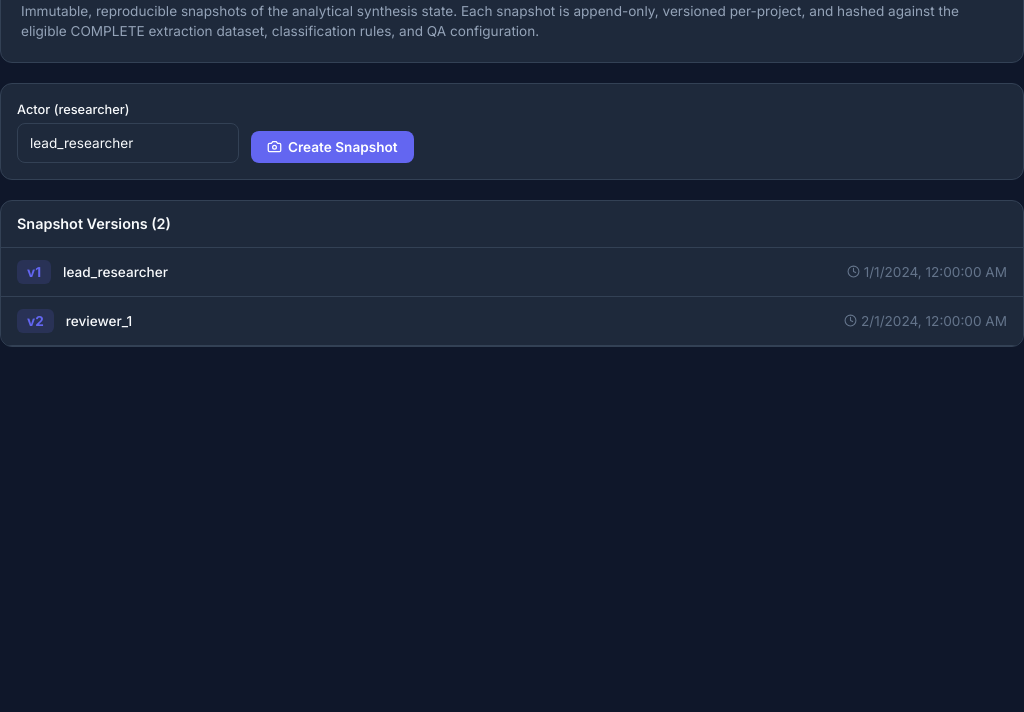
it: SnapshotsWorkspace Component › E7: JSON export produces preview
The image size is (1024, 712).
Click the button with test id "snapshot-row-1".
click(34, 272)  # box top-left (1, 248), bottom-right (1023, 297)
(page scrolled)
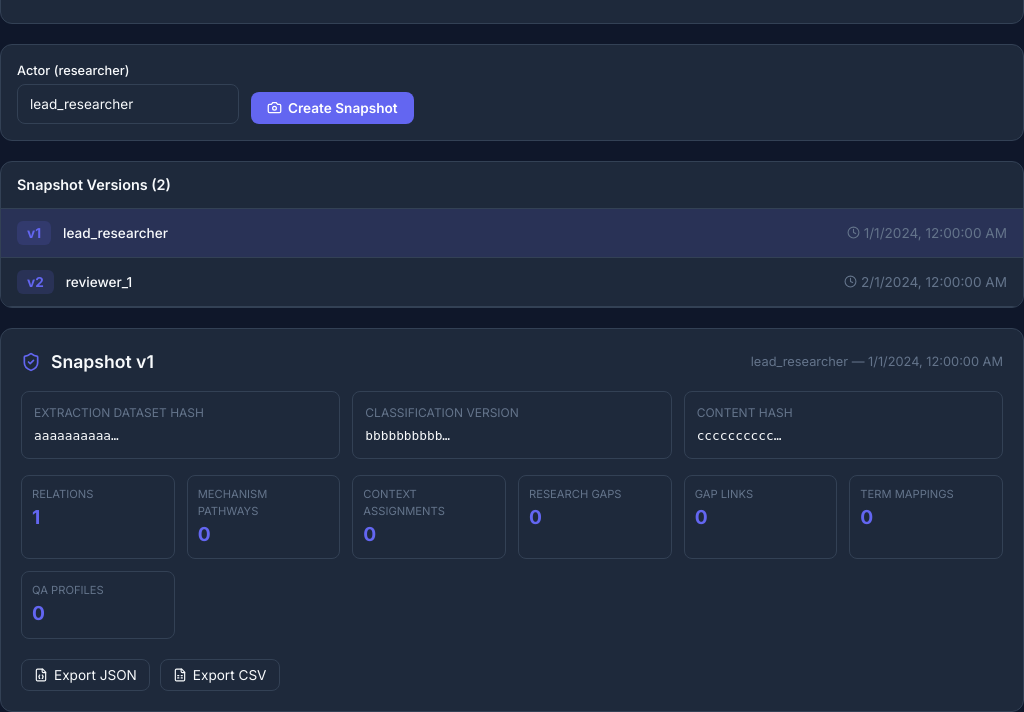
Check: the button with test id "export-json-btn" is shown
Click the button with test id "export-json-btn".
click(85, 675)  # box top-left (21, 659), bottom-right (150, 691)
(page scrolled)
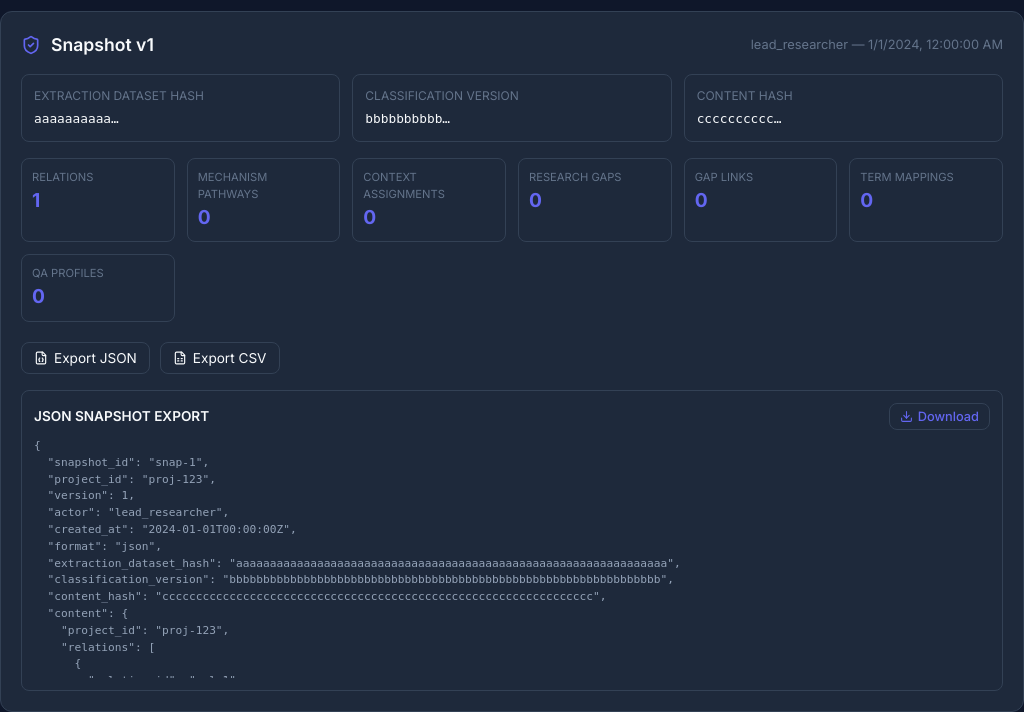
Check: the element with test id "export-preview" is shown, box top-left (21, 390), bottom-right (1003, 691)
Check: the button with test id "download-export-btn" is shown, box top-left (889, 403), bottom-right (990, 430)
